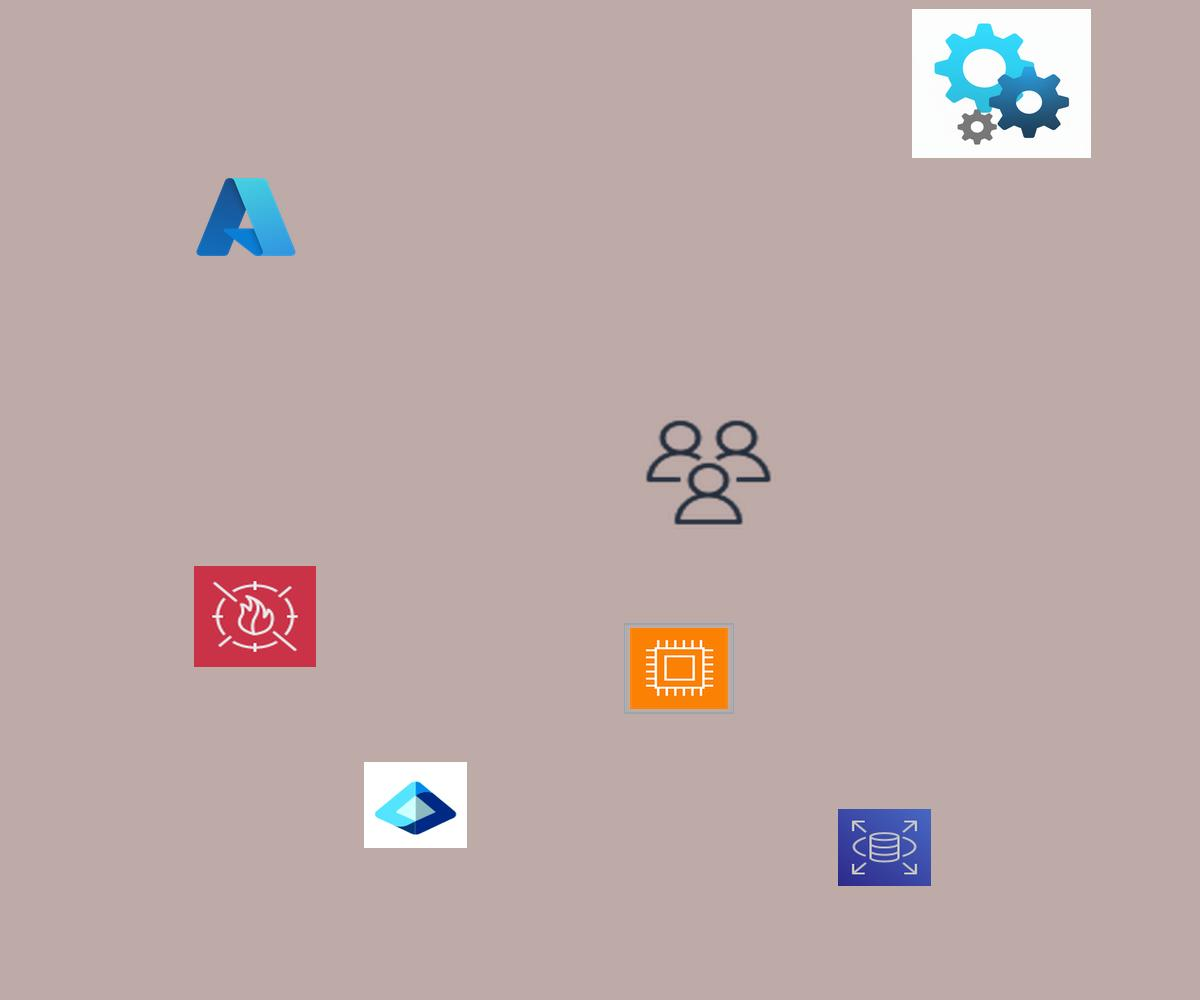AWS-Category_Compute: (624, 623, 734, 714)
AWS-RDS: (838, 809, 931, 886)
AWS-Res_Users: (641, 416, 776, 529)
AWS-WAF: (194, 566, 316, 667)
Azure_api: (912, 9, 1091, 158)
Azure_microsoft_entra: (364, 762, 467, 848)
Azure_services: (192, 172, 300, 262)
